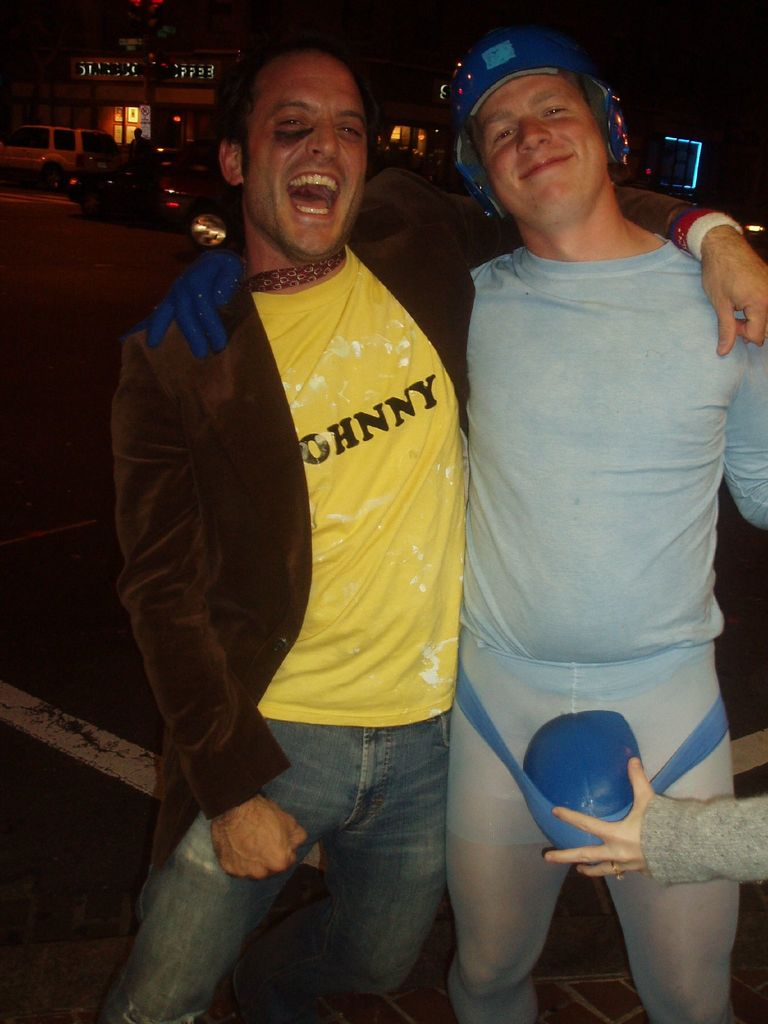Human_hand: (541, 755, 653, 884), (144, 251, 246, 358), (211, 793, 314, 894), (699, 223, 767, 358)
